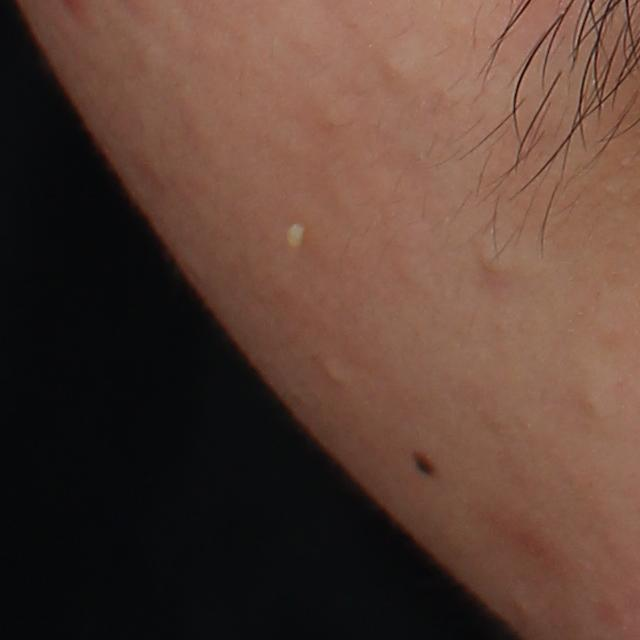comedo: (369, 46, 426, 97), (476, 231, 517, 279), (316, 354, 352, 390), (573, 391, 609, 420)
nevus: (407, 448, 440, 479)
other: (284, 221, 310, 254)
